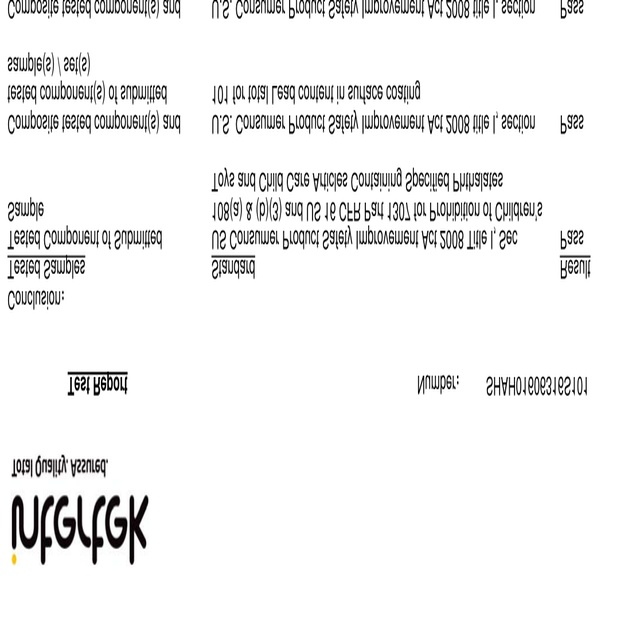intertek: (5, 489, 151, 572)
